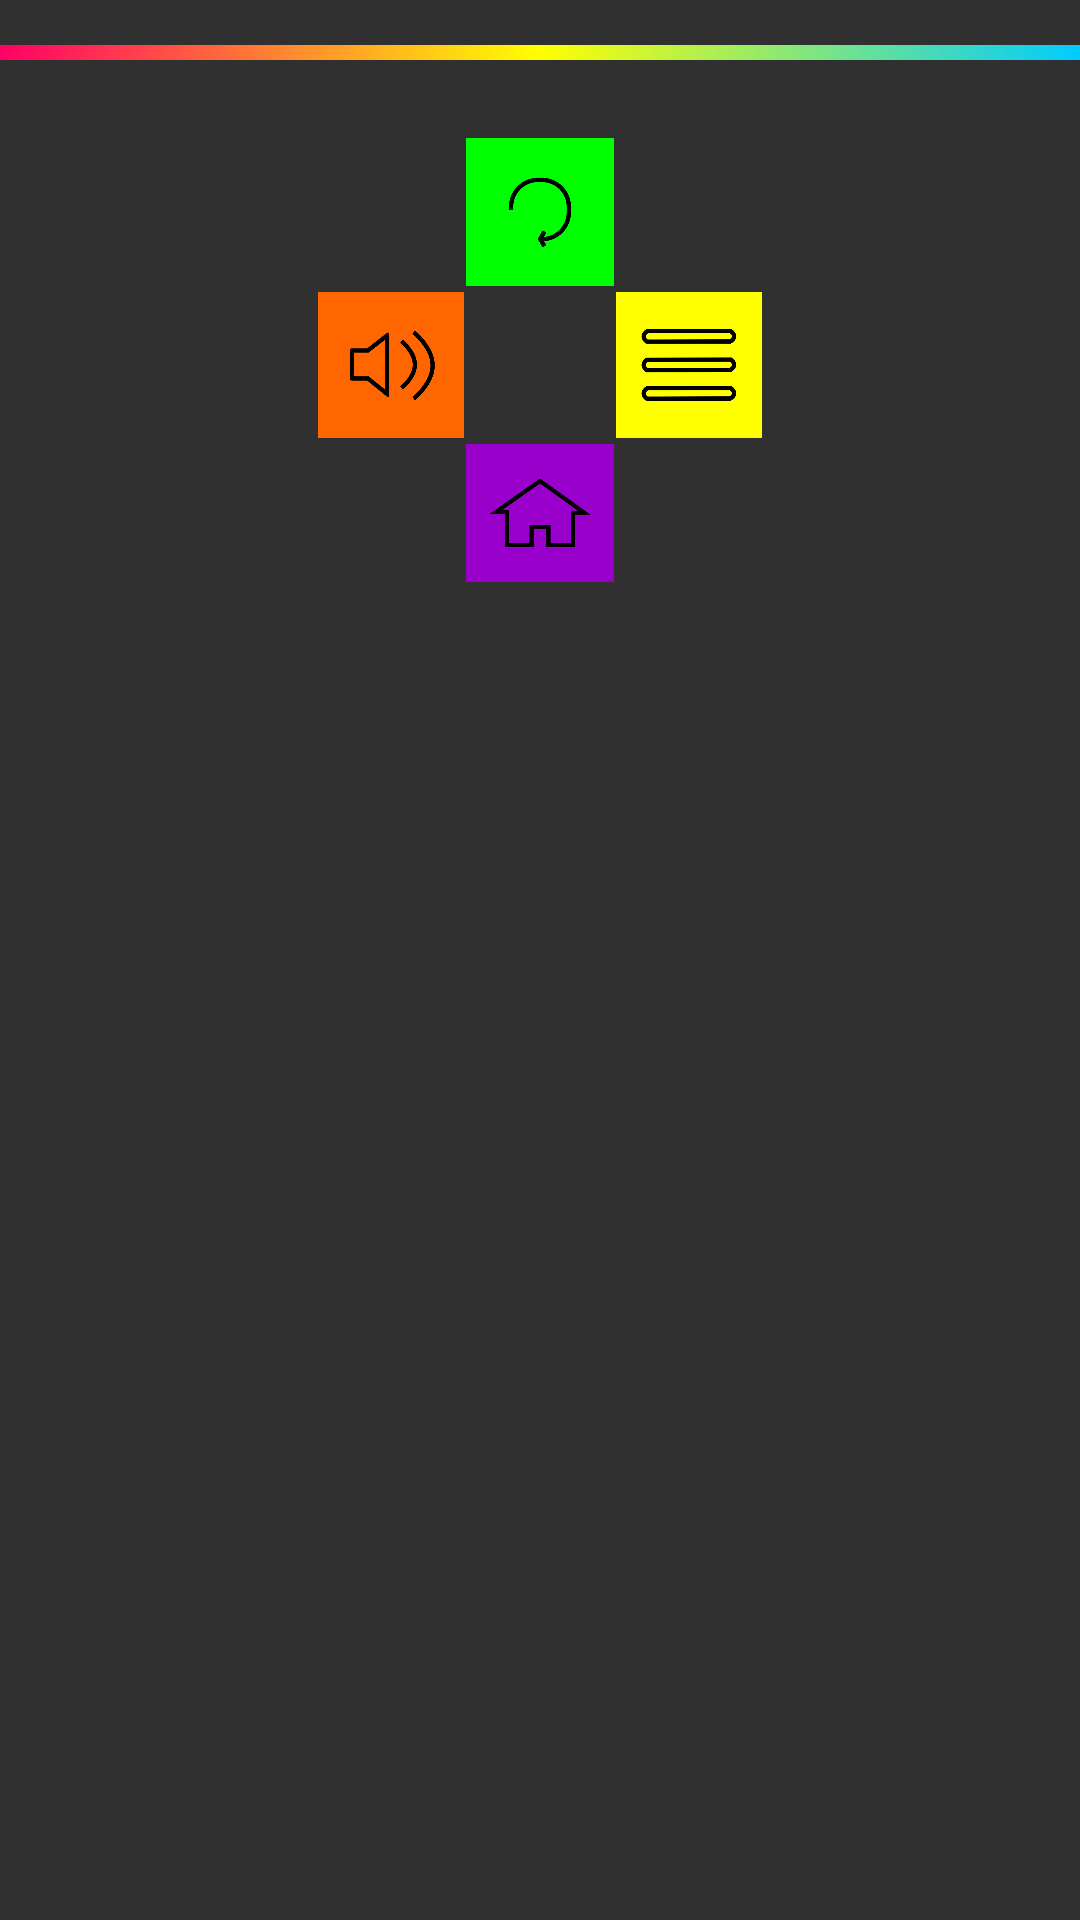

Locate icon controls on the screen. Image size 1080 x 1920, boxes as [left=x1, top=y1, right=x2, bottom=y2].
home: [left=466, top=444, right=614, bottom=582]
refresh: [left=466, top=138, right=614, bottom=286]
sound: [left=318, top=292, right=464, bottom=438]
